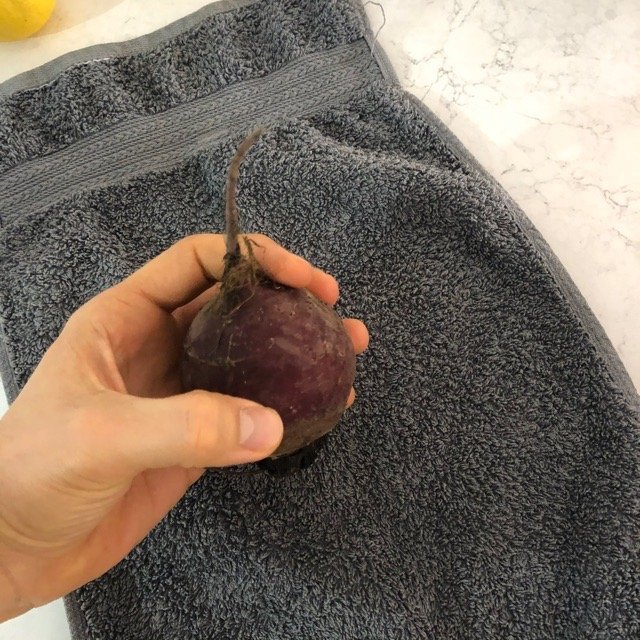beet: (180, 127, 355, 476)
